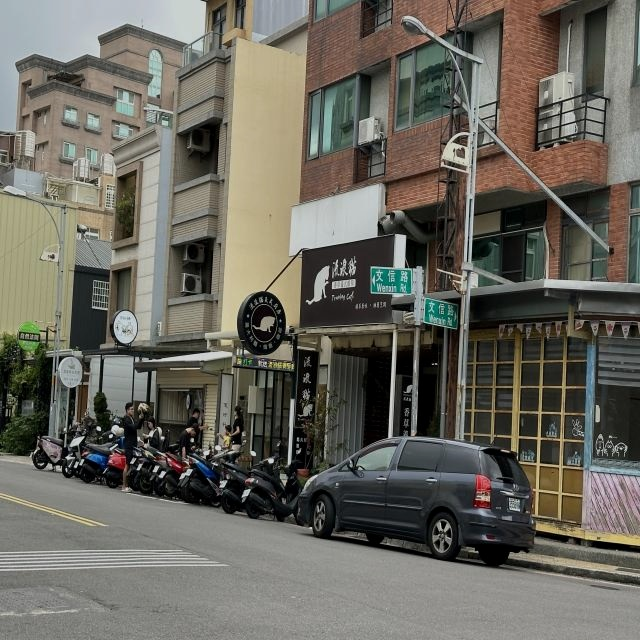Sin_Casco_Mascarrilla: (191, 423, 201, 437), (148, 415, 156, 430), (126, 402, 134, 416), (234, 406, 243, 418), (193, 408, 200, 420)
